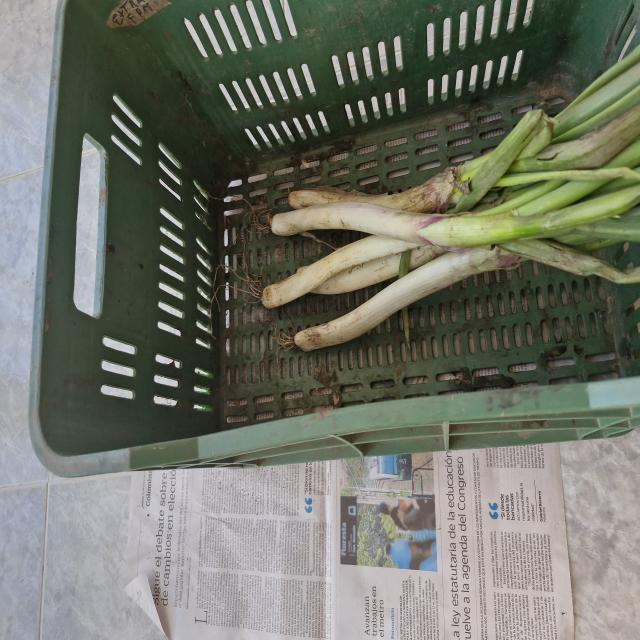green_onion: (282, 178, 640, 362), (257, 196, 640, 258)
